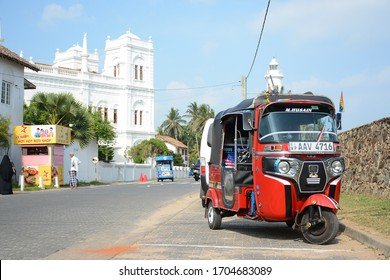threewheel: (201, 95, 344, 245)
